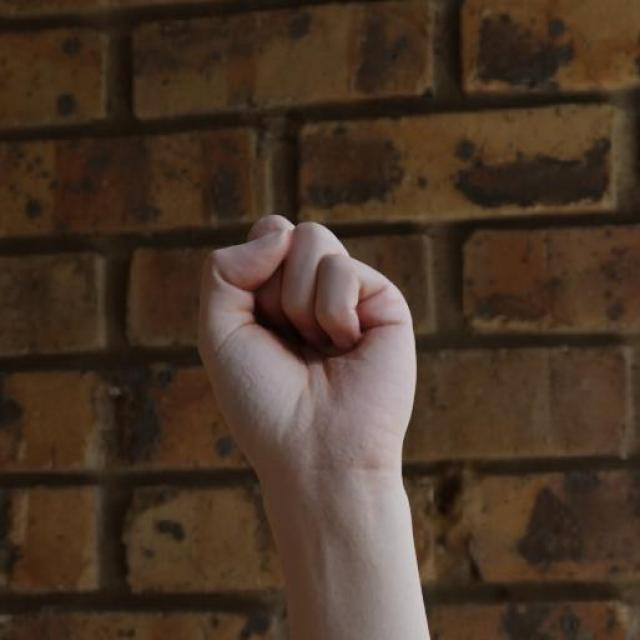S: (188, 211, 424, 479)
